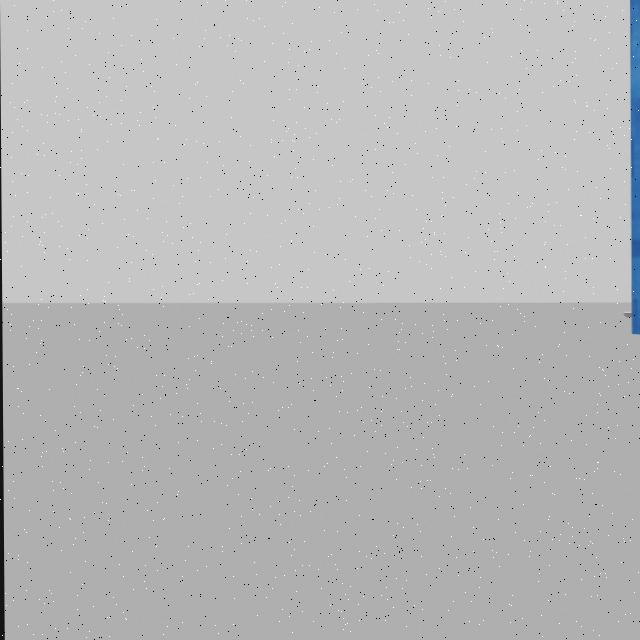bowl: (616, 302, 639, 323)
shelf: (620, 0, 640, 348)
